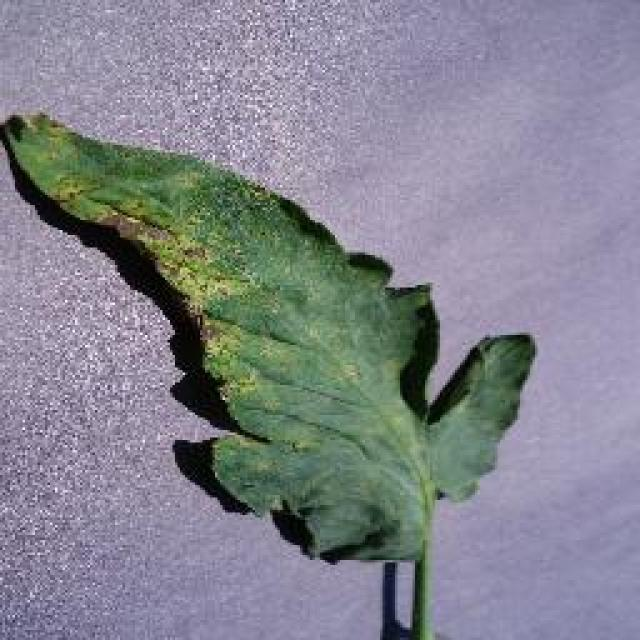Tom_Septoria_leaf_spot: (104, 177, 276, 395)
